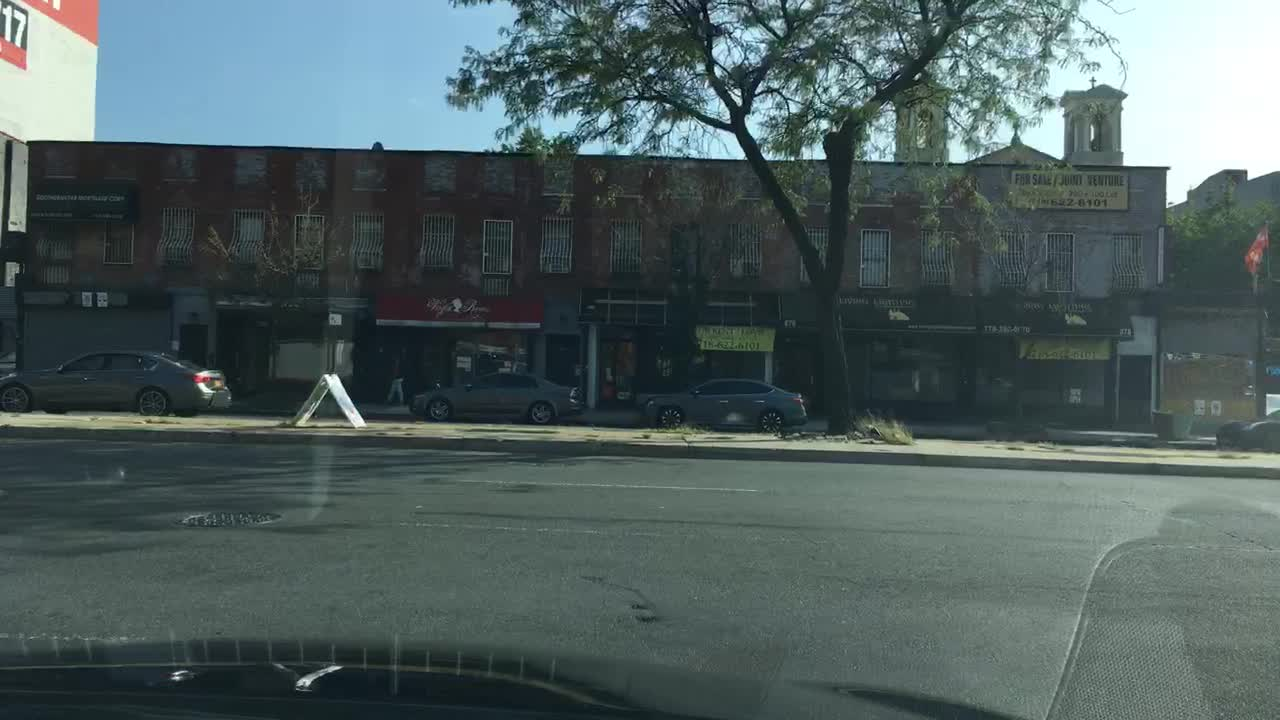car: (0, 346, 235, 416), (641, 374, 809, 437), (411, 367, 586, 422), (1216, 408, 1278, 455)
person: (383, 353, 406, 406)
traffic sign: (4, 259, 20, 286), (93, 291, 108, 308), (329, 314, 340, 325)
